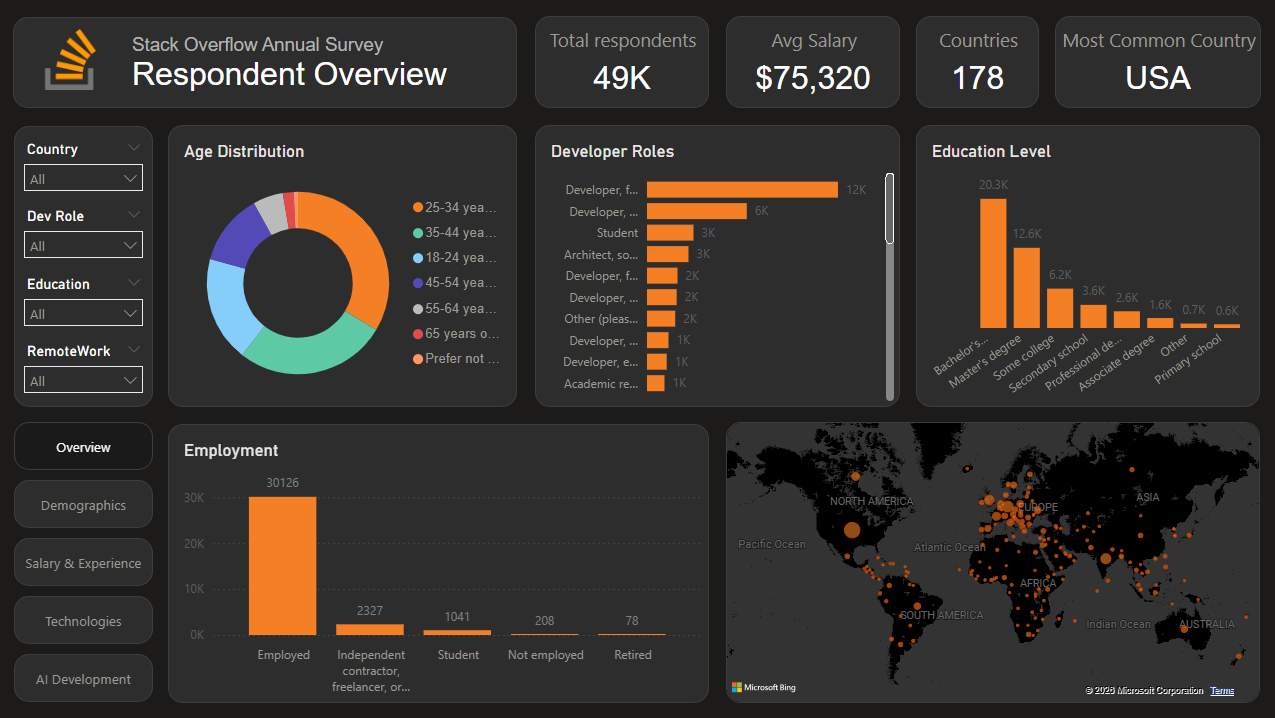

This screenshot's page, from the dashboard's own definition file:
{"tool":"powerbi","page":{"name":"Overview","canvas":[1280,720],"ordinal":0},"visuals":[{"type":"donutChart","title":"Age Distribution","fields":{"Category":["Survey.Age"],"Y":["Count(Survey.ResponseId)"]},"box":[538,126,365,279],"z":0},{"type":"map","title":"Count of ResponseId by Country","fields":{"Category":["Survey.Country"],"Size":["CountNonNull(Survey.ResponseId)"]},"box":[729,422,534,281],"z":1000},{"type":"columnChart","title":"Employment","fields":{"Category":["Survey.Employment"],"Y":["Count(Survey.ResponseId)"]},"box":[171.2,424.1,540.8,279.1],"z":2000},{"type":"clusteredColumnChart","title":"Education Level","fields":{"Category":["Survey.Education_level"],"Y":["Count(Survey.ResponseId)"]},"box":[919,126,344,279],"z":3000},{"type":"card","title":"Countries","fields":{"Values":["Count(Survey.Country)"]},"box":[919.2,16.2,122.5,91.7],"z":4000},{"type":"card","title":"Total respondents","fields":{"Values":["CountNonNull(Survey.ResponseId)"]},"box":[537.5,16.2,174.6,91.7],"z":5000},{"type":"pageNavigator","box":[16.7,422.2,138.9,281.1],"z":6000},{"type":"card","title":"Most Common Country","fields":{"Values":["Survey.Mode_Country"]},"box":[1058.2,16.4,205.5,91.8],"z":7000},{"type":"card","title":"Avg Salary ","fields":{"Values":["Median(Survey.ConvertedCompYearly)"]},"box":[728.8,16.2,173.8,91.7],"z":9000},{"type":"shape","box":[16.2,16.7,504.2,91.2],"z":10000},{"type":"shape","box":[17,126,139,281],"z":11000},{"type":"slicer","title":"Age Distribution","fields":{"Values":["Survey.Country"]},"box":[17.3,141.5,138.4,50],"z":12000},{"type":"slicer","title":"Age Distribution","fields":{"Values":["Survey.DevType"]},"box":[17.3,208.3,138.4,50.5],"z":13000},{"type":"slicer","title":"Age Distribution","fields":{"Values":["Survey.Education_level"]},"box":[17.3,275.7,138.4,50],"z":14000},{"type":"slicer","title":"Age Distribution","fields":{"Values":["Survey.RemoteWork_Clean"]},"box":[17.3,342.5,138.4,50],"z":15000},{"type":"textbox","box":[129.9,28.9,373.1,73.2],"z":16000},{"type":"image","box":[38.1,28.9,70.1,60.8],"z":17000},{"type":"donutChart","title":"Employment","fields":{"Category":["Survey.Employment"],"Y":["Count(Survey.ResponseId)"]},"box":[171,125,349,280],"z":18000},{"type":"clusteredBarChart","title":"Developer Roles","fields":{"Y":["Count(Survey.ResponseId)"],"Category":["Survey.DevType"]},"box":[171,422,541,282],"z":19000}]}

Visuals, with their boxes in screenshot pixels (x1, y1, x2, y2), scaled from the page's 1280x720 canvas onto the 1275x718 screenshot:
"Age Distribution" donutChart: 536, 126, 899, 404
"Count of ResponseId by Country" map: 726, 421, 1258, 701
"Employment" columnChart: 171, 423, 709, 701
"Education Level" clusteredColumnChart: 915, 126, 1258, 404
"Countries" card: 916, 16, 1038, 108
"Total respondents" card: 535, 16, 709, 108
pageNavigator: 17, 421, 155, 701
"Most Common Country" card: 1054, 16, 1259, 108
"Avg Salary " card: 726, 16, 899, 108
shape: 16, 17, 518, 108
shape: 17, 126, 155, 406
"Age Distribution" slicer: 17, 141, 155, 191
"Age Distribution" slicer: 17, 208, 155, 258
"Age Distribution" slicer: 17, 275, 155, 325
"Age Distribution" slicer: 17, 342, 155, 391
textbox: 129, 29, 501, 102
image: 38, 29, 108, 89
"Employment" donutChart: 170, 125, 518, 404
"Developer Roles" clusteredBarChart: 170, 421, 709, 702
